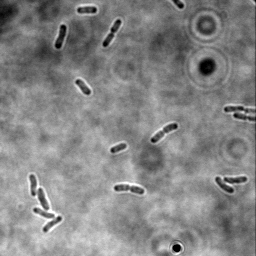Dividing: (150, 121, 180, 146), (101, 18, 124, 49), (113, 182, 146, 196), (222, 105, 255, 116), (231, 111, 255, 123)
Rod: (42, 215, 64, 234), (53, 23, 68, 50), (36, 187, 52, 212), (215, 176, 236, 195), (74, 76, 92, 96), (32, 207, 56, 220), (109, 141, 129, 155), (28, 173, 39, 197), (223, 175, 249, 184), (76, 5, 98, 15)
